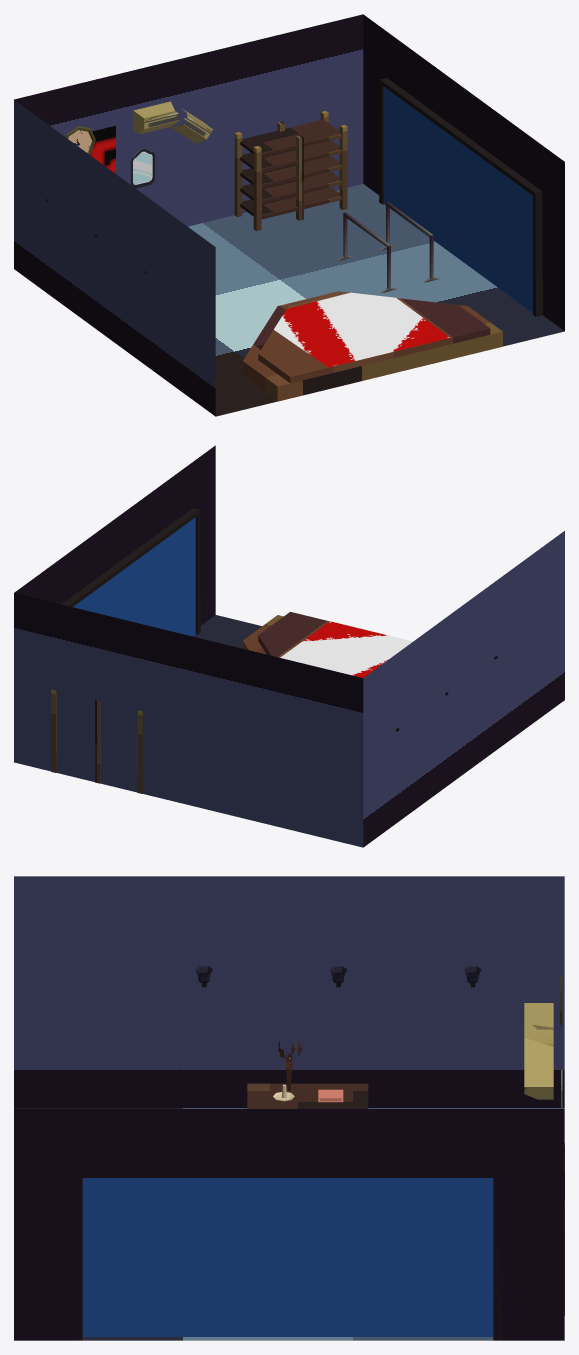
Rendered from Environment.fbx.
The picture shows the model from 3 angles, top to bottom: view 1: azimuth 30°, elevation 25°; view 2: azimuth 150°, elevation 25°; view 3: azimuth 270°, elevation 25°; orthographic projection. The views are drawn at different scales.
Parts seen in each view (by area): view 1: Plane, Plane.001, Cube.007, Cube.005, Cube.001, Plane.005, AC Rusak, Plane.002, cermin, Cube.008, Cube.016, Jam; view 2: Plane, Plane.001, Cube.001, Cube.007, Plane.005, Cube.005; view 3: Plane, Plane.001, AC Rusak, Cube, Plane.005.
Boxes of the visible parts, box(x1,y1,x2,y2) form: Plane: box(14, 14, 564, 416); Plane.001: box(384, 87, 532, 312); Cube.007: box(242, 291, 502, 401); Cube.005: box(234, 111, 347, 231); Cube.001: box(274, 292, 449, 367); Plane.005: box(379, 78, 542, 316); AC Rusak: box(133, 101, 213, 143); Plane.002: box(90, 125, 115, 173); cermin: box(130, 148, 154, 188); Cube.008: box(337, 212, 397, 292); Cube.016: box(380, 202, 439, 282); Jam: box(65, 126, 95, 154); Plane: box(14, 445, 564, 847); Plane.001: box(73, 517, 195, 636); Cube.001: box(280, 621, 412, 677); Cube.007: box(242, 612, 329, 657); Plane.005: box(61, 508, 200, 634); Cube.005: box(51, 689, 142, 793); Plane: box(14, 876, 564, 1340); Plane.001: box(82, 1178, 493, 1336); AC Rusak: box(524, 1003, 553, 1099); Cube: box(247, 1083, 368, 1108); Plane.005: box(76, 1172, 502, 1340).
Bounding box in the file's own units: 823 × 381 × 820.
Materials: 19 (18 with a texture image).
